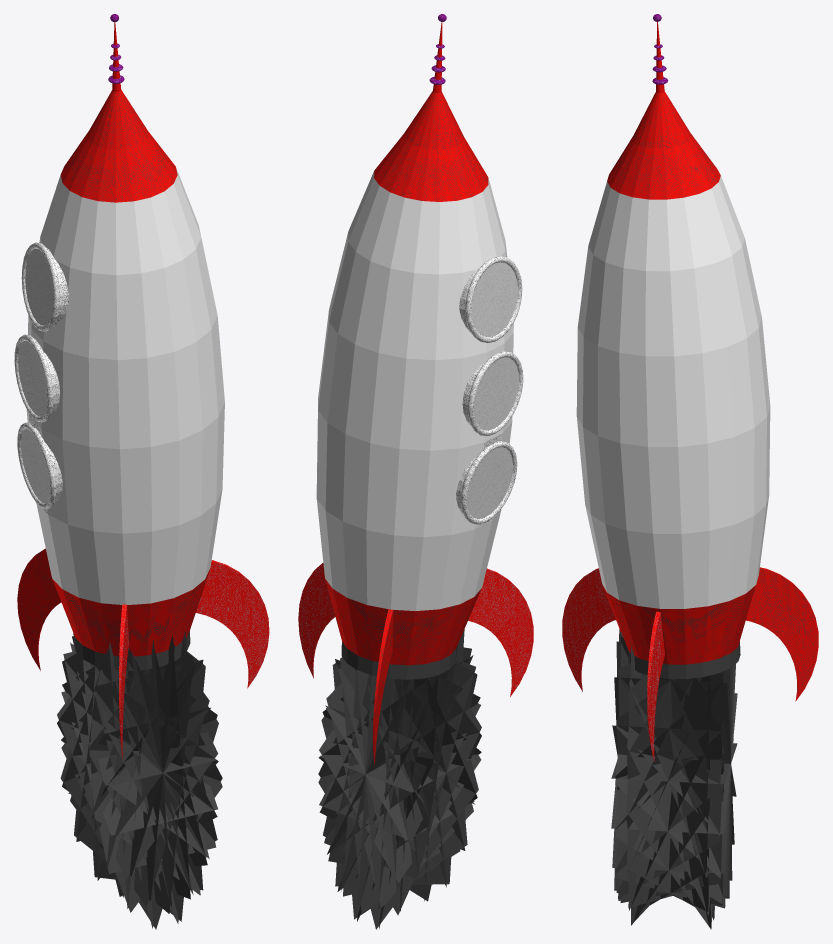
The picture shows the model from 3 angles, left to right: view 1: azimuth 30°, elevation 25°; view 2: azimuth 150°, elevation 25°; view 3: azimuth 270°, elevation 25°; orthographic projection. The views are drawn at different scales.
Parts seen in each view (by area): view 1: skp1100 (×13), Component (×32); view 2: skp1100 (×13), Component (×32); view 3: skp1100 (×7), Component (×32).
Part boxes in pixels (box(x1,y1,x2,y2)): skp1100 (×13): box(14, 90, 269, 759); Component (×32): box(57, 632, 222, 929); skp1100 (×13): box(298, 91, 533, 765); Component (×32): box(318, 629, 481, 929); skp1100 (×7): box(562, 91, 818, 761); Component (×32): box(611, 636, 737, 929).
Size of the model in its own units: 164 by 167 by 638.
